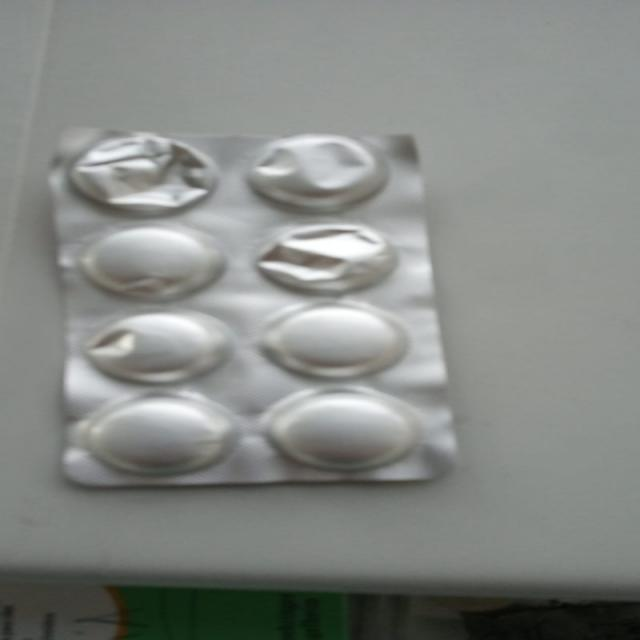Empty: (70, 133, 232, 220), (240, 133, 398, 217), (250, 224, 406, 295)
Pill: (260, 386, 422, 473), (80, 391, 242, 476), (254, 303, 414, 382), (74, 225, 232, 305), (72, 310, 236, 387)
